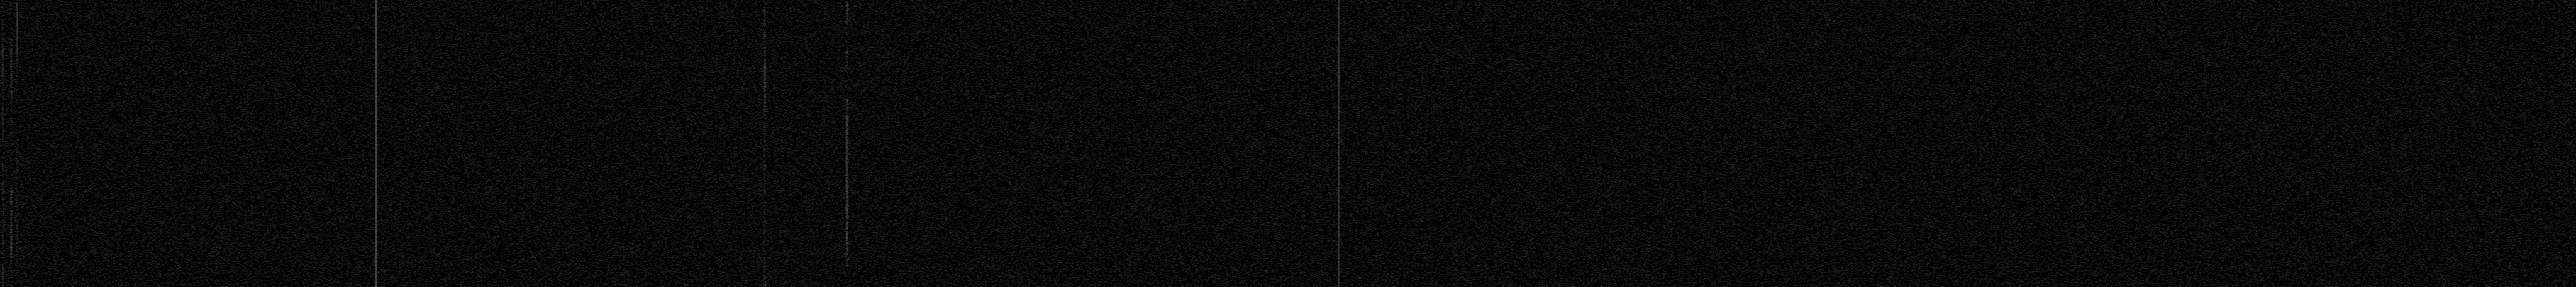wv_am: (1337, 0, 1341, 287), (375, 0, 378, 287)
wv_lsb: (762, 3, 767, 287), (15, 141, 18, 287), (15, 2, 18, 82), (16, 126, 18, 139), (16, 115, 18, 118)
wv_usb: (2, 2, 5, 287), (844, 97, 849, 257), (10, 41, 13, 177), (10, 179, 13, 287), (844, 39, 849, 75), (844, 2, 849, 28), (10, 16, 13, 39), (844, 257, 849, 272), (10, 3, 13, 16), (844, 28, 849, 36), (10, 2, 13, 3), (846, 277, 848, 280), (846, 274, 848, 276), (846, 77, 848, 79)
